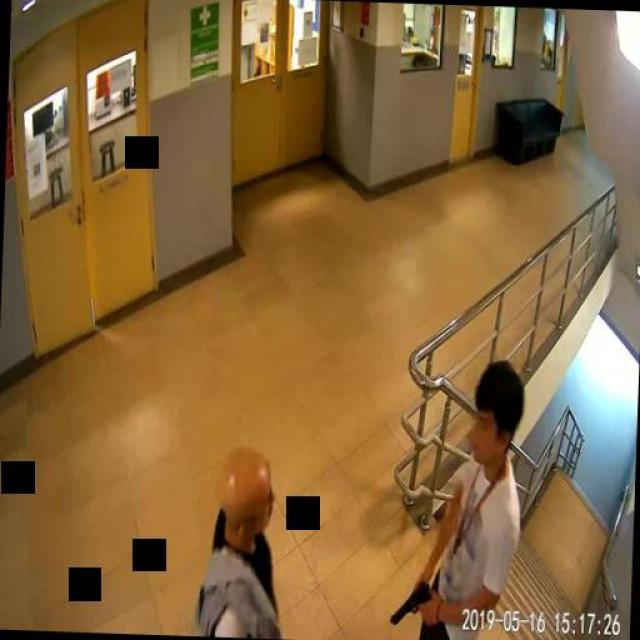gun: (388, 578, 434, 624)
